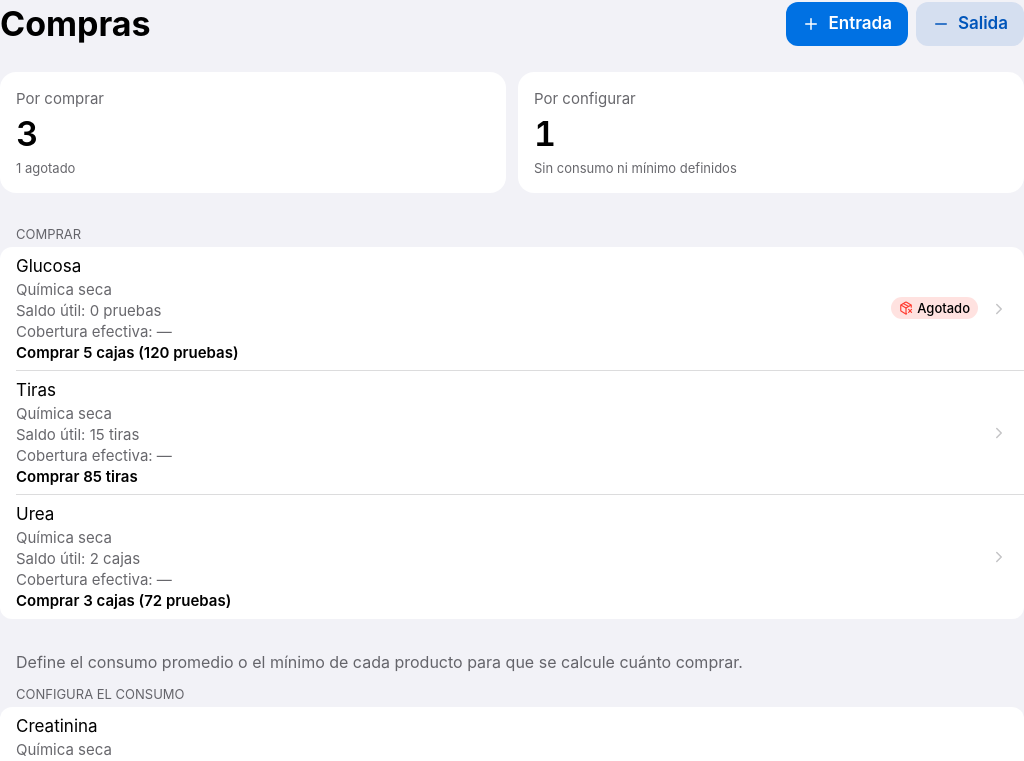
Test case: PurchasingPage (mobile) › renders lists instead of tables and navigates on tap
The image size is (1024, 761).
expect the list "Comprar" is shown: met, box [0,248,1023,619]
expect the text "Comprar 3 cajas (72 pruebas)" is shown: met, box [16,591,231,610]
Click the link "Urea" at (35, 514), box [0,495,1023,619]
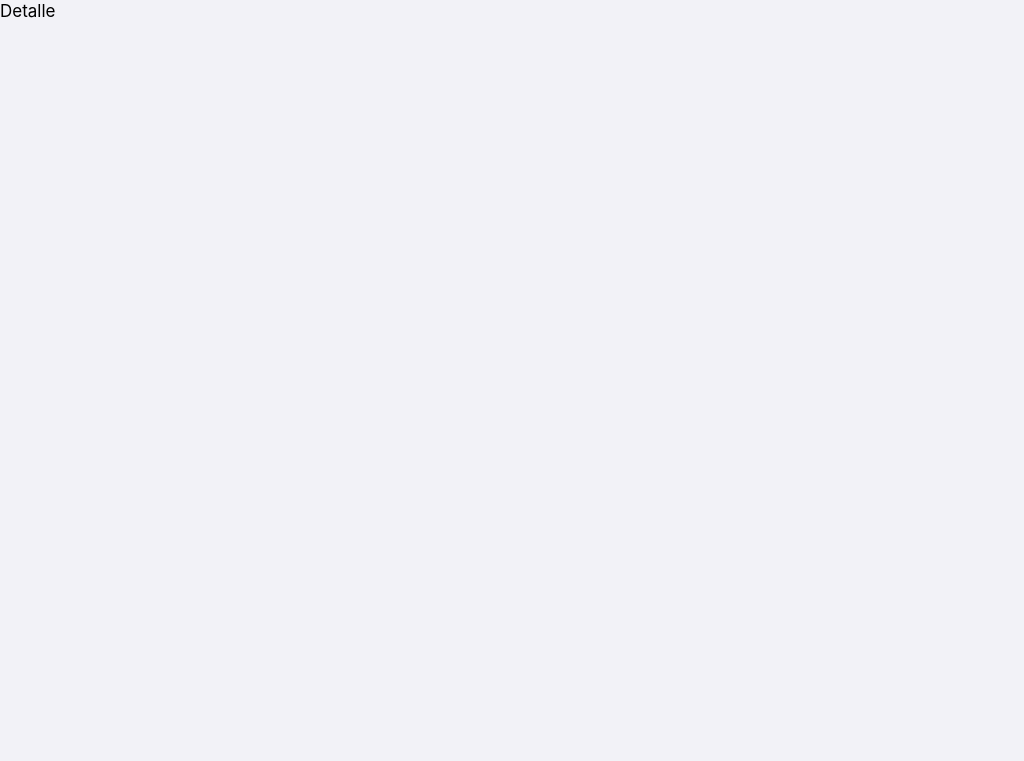
expect the heading "Detalle" is shown: met, box [0,1,56,21]
